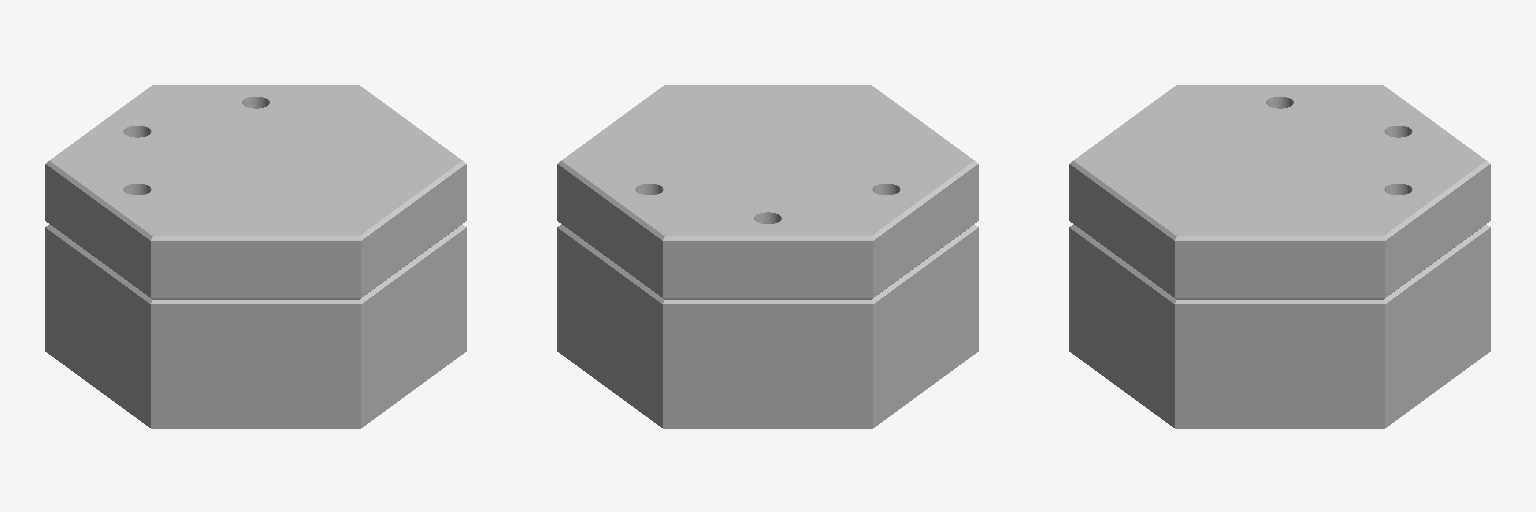
Rendered from lvl2A.obj.
The picture shows the model from 3 angles: view 1: azimuth 30°, elevation 25°; view 2: azimuth 150°, elevation 25°; view 3: azimuth 270°, elevation 25°; orthographic projection.
Visible parts, largest first — view 1: Lvl2A-3_(Mono-NoMags); view 2: Lvl2A-3_(Mono-NoMags); view 3: Lvl2A-3_(Mono-NoMags).
Part boxes in pixels (left/top/right/bottom): Lvl2A-3_(Mono-NoMags): left=45, top=85, right=466, bottom=428; Lvl2A-3_(Mono-NoMags): left=557, top=85, right=978, bottom=428; Lvl2A-3_(Mono-NoMags): left=1069, top=85, right=1490, bottom=428.
Bounding box in the file's own units: 3.13 × 1.81 × 3.62.